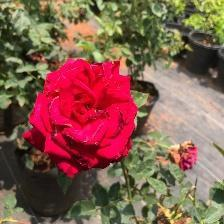rose: (23, 58, 141, 181)
